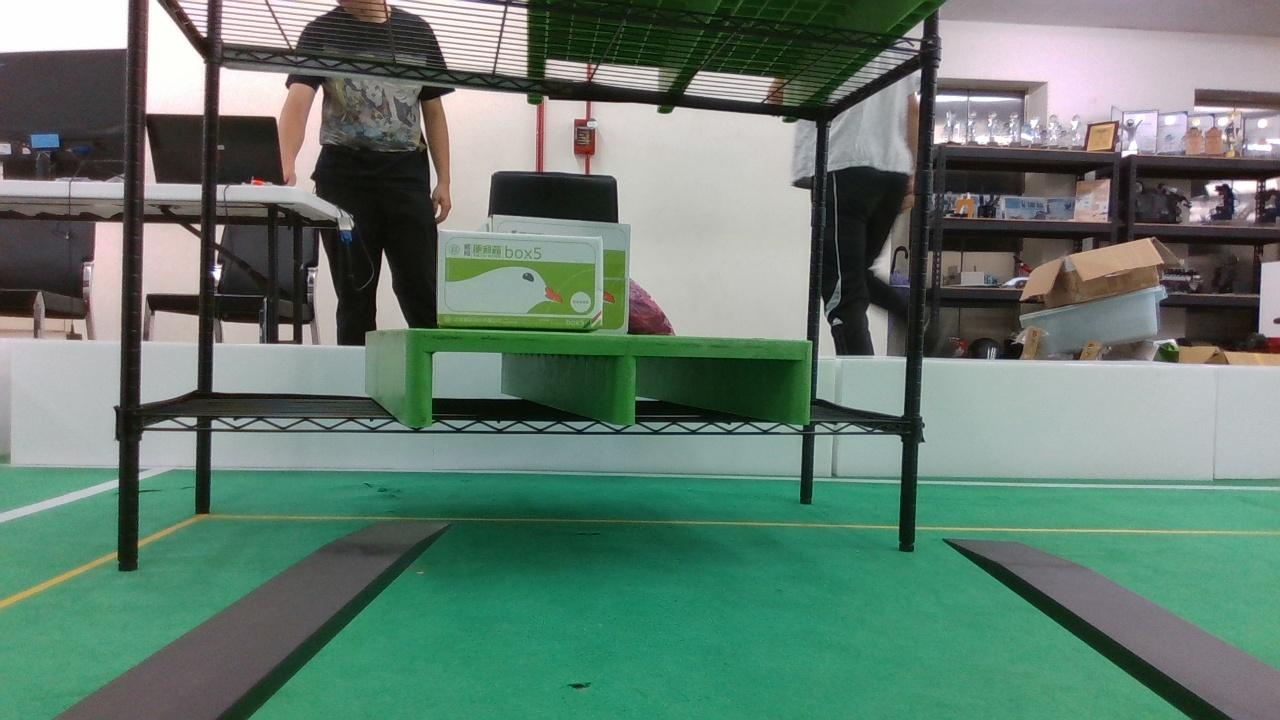Pallet: (403, 327, 817, 431)
